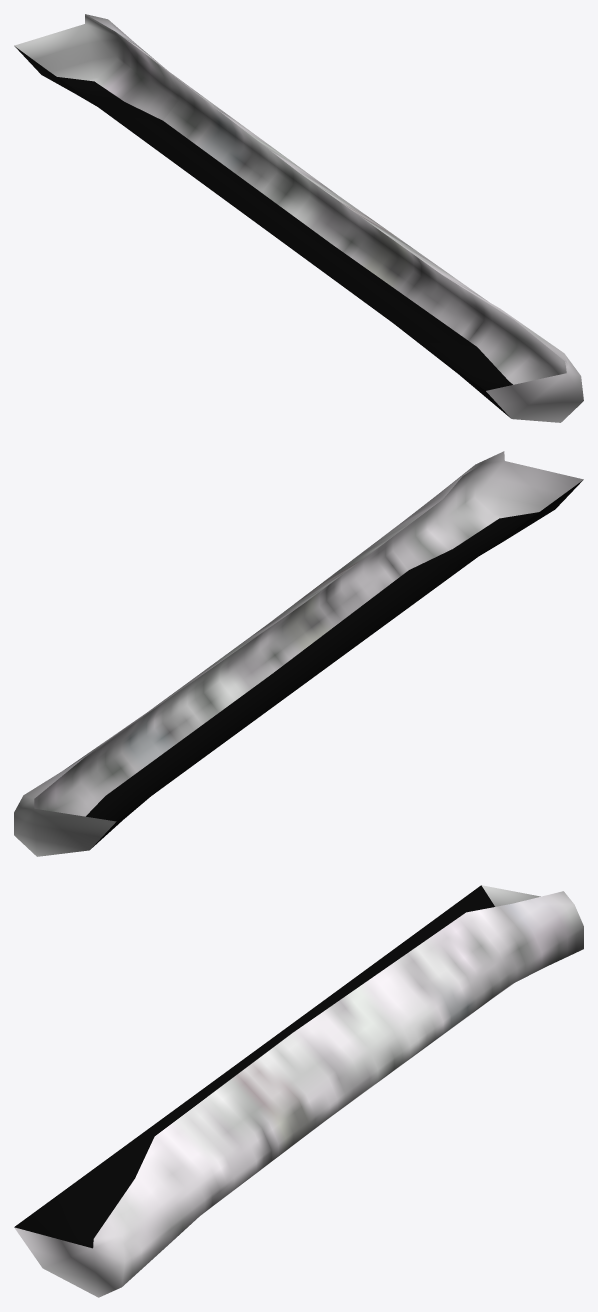
The picture shows the model from 3 angles, top to bottom: view 1: azimuth 30°, elevation 25°; view 2: azimuth 150°, elevation 25°; view 3: azimuth 330°, elevation 25°; orthographic projection.
Parts seen in each view (by area): view 1: wg_r_a_l; view 2: wg_r_a_l; view 3: wg_r_a_l.
Boxes of the visible parts, box(x1,y1,x2,y2) form: wg_r_a_l: box(14, 14, 583, 422); wg_r_a_l: box(14, 451, 583, 856); wg_r_a_l: box(14, 885, 583, 1297).
Bounding box in the file's own units: 0.264 × 0.2221 × 2.11.
Materials: 2 (1 with a texture image).
